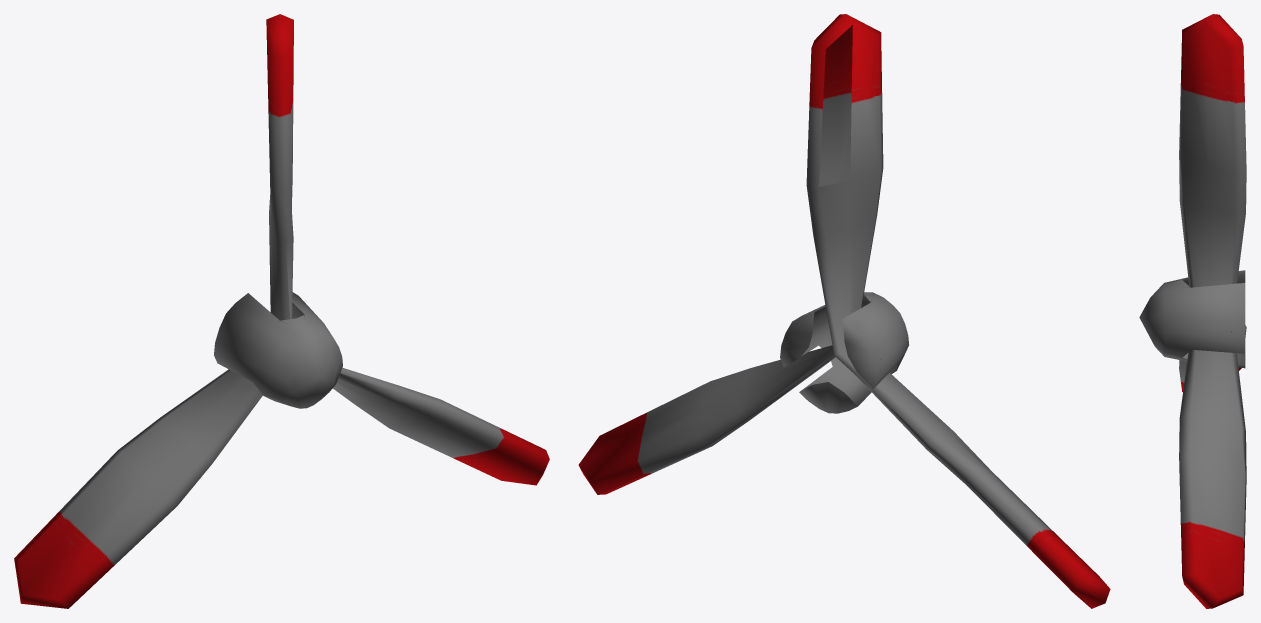
File: helicdeDef.fbx
3 renders of one model, left to right at view 1: azimuth 30°, elevation 25°; view 2: azimuth 150°, elevation 25°; view 3: azimuth 270°, elevation 25°, orthographic. The views are drawn at different scales.
Parts seen in each view (by area): view 1: Cilindro.001; view 2: Cilindro.001; view 3: Cilindro.001.
Boxes of the visible parts, x1=… form: Cilindro.001: x1=14, y1=14, x2=549, y2=608; Cilindro.001: x1=578, y1=14, x2=1110, y2=608; Cilindro.001: x1=1139, y1=14, x2=1246, y2=608.
Size of the model in its own units: 187 by 181 by 36.28.
Materials: 1 (1 with a texture image).
